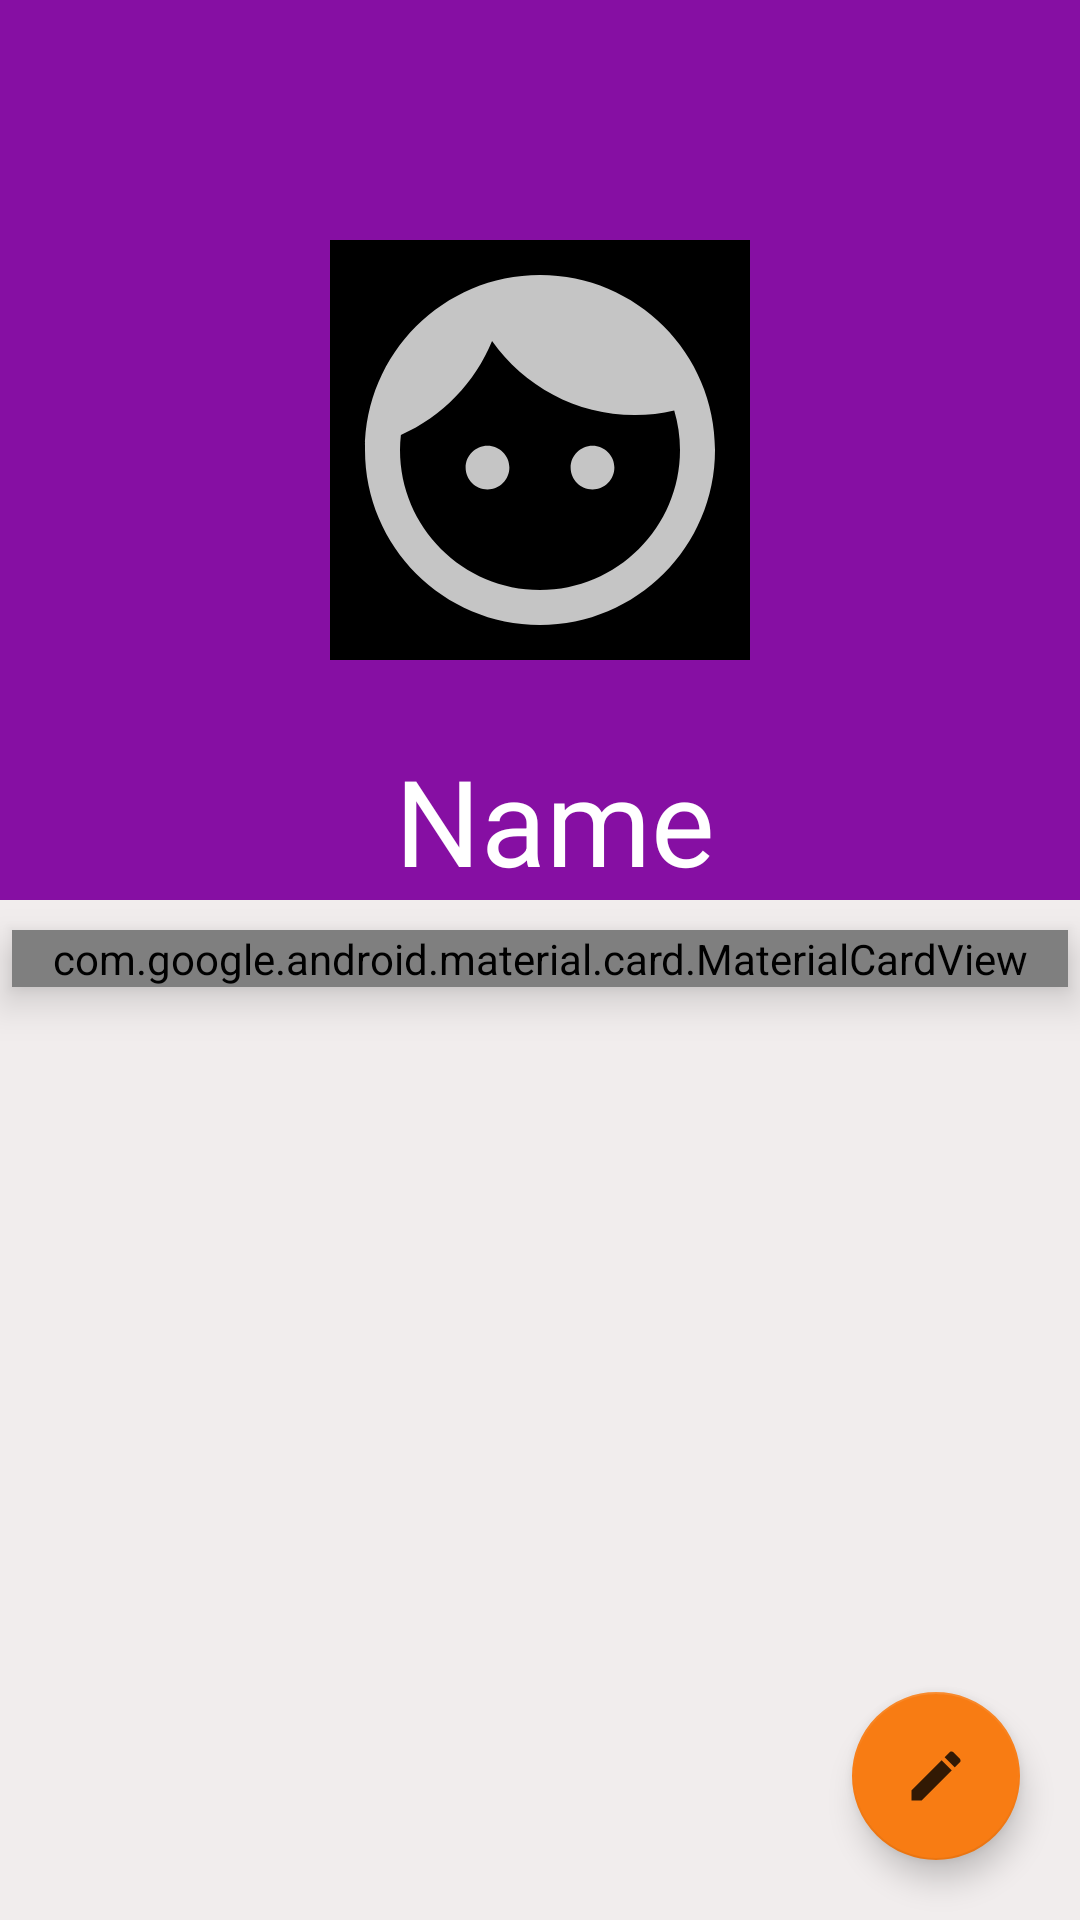

Named icons in this screenshot (1080w x 1920h) and their centers, [x,y]:
edit: [936,1776]
